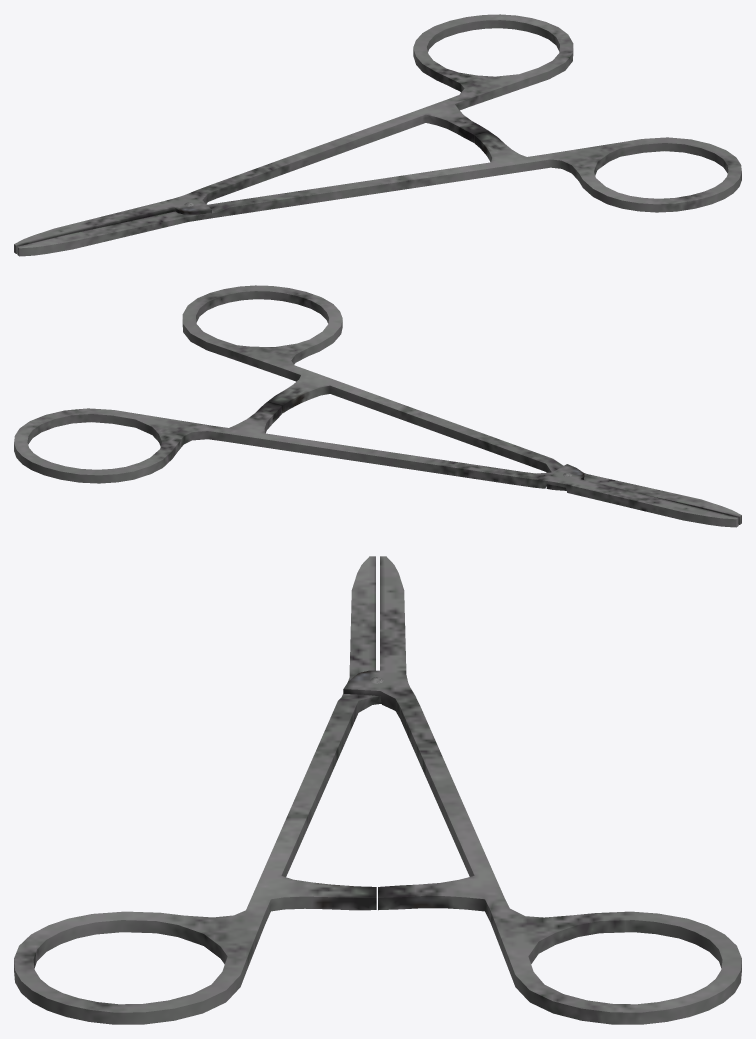
The model's file is surgery_clamp.dae.
3 renders of one model, top to bottom at view 1: azimuth 30°, elevation 25°; view 2: azimuth 150°, elevation 25°; view 3: azimuth 270°, elevation 25°, orthographic. The views are drawn at different scales.
Parts seen in each view (by area): view 1: polySurface6; view 2: polySurface6; view 3: polySurface6.
Part boxes in pixels (x1,y1,x2,y2): polySurface6: [14, 14, 741, 256]; polySurface6: [14, 285, 741, 527]; polySurface6: [14, 556, 741, 1024].
Size of the model in its own units: 24.86 by 0.4476 by 16.76.
